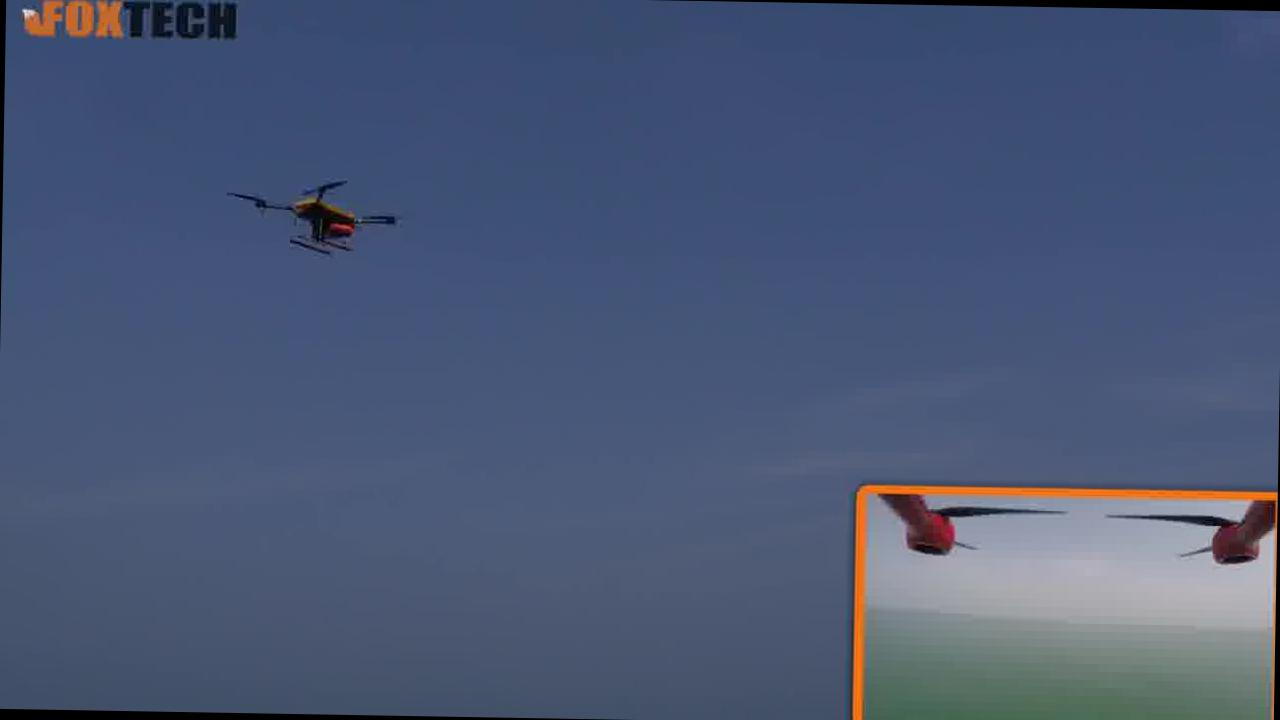drone: (245, 154, 398, 272)
